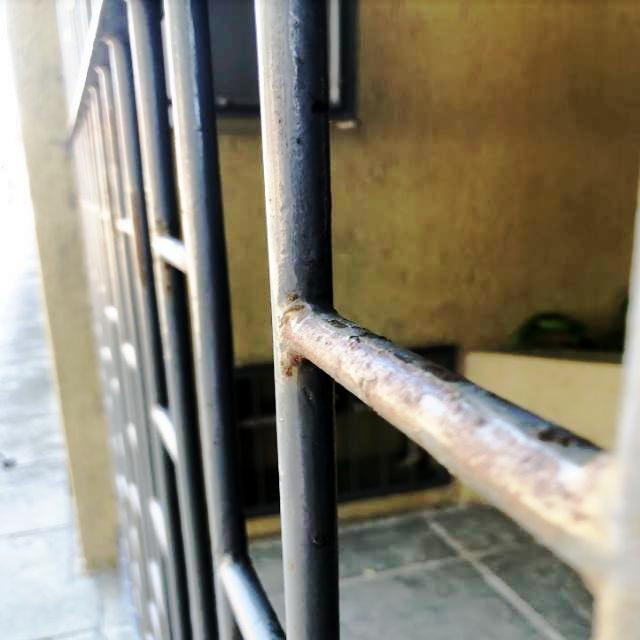Corrosion: (275, 287, 607, 611)
